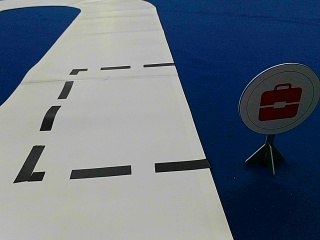company: (237, 65, 315, 130)
